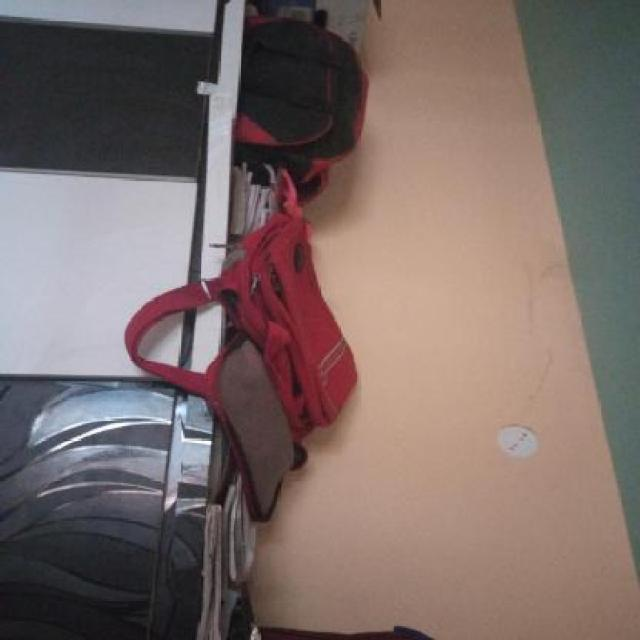backpack: (222, 205, 363, 448), (226, 9, 374, 194)
